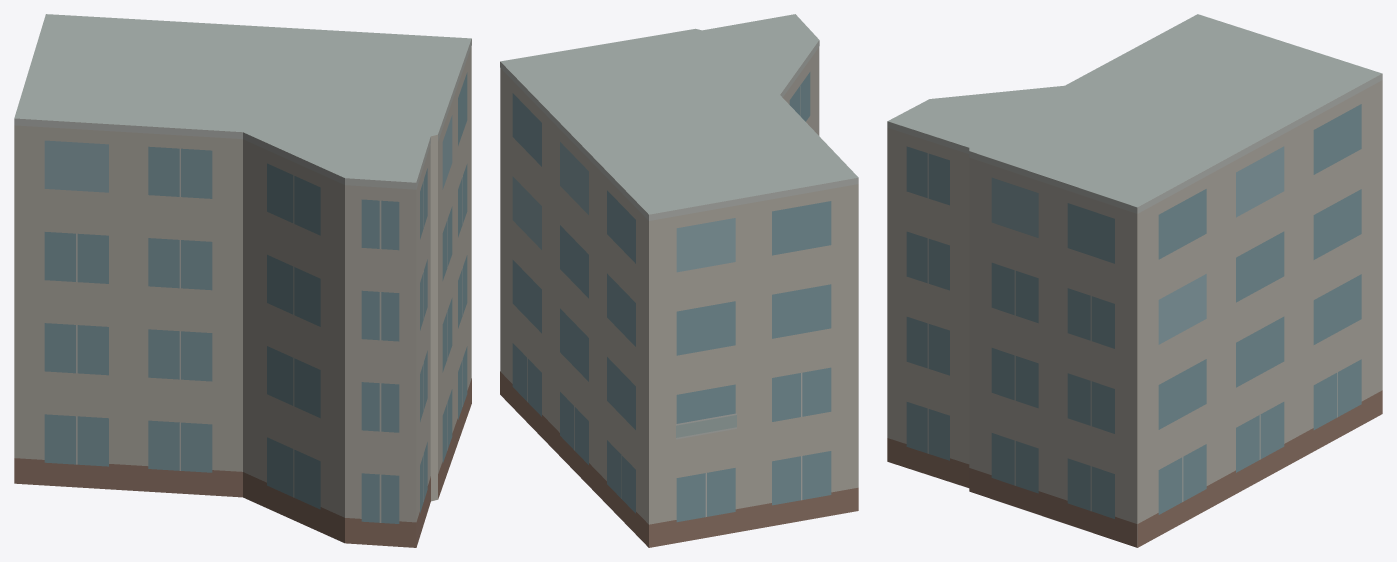
The model's file is survey-upis-32487131.glb.
3 views of the same model, side by side, from view 1: azimuth 30°, elevation 25°; view 2: azimuth 150°, elevation 25°; view 3: azimuth 270°, elevation 25° (orthographic). The views are drawn at different scales.
Parts seen in each view (by area): view 1: survey-upis-32487131.tmp; view 2: survey-upis-32487131.tmp; view 3: survey-upis-32487131.tmp.
Boxes of the visible parts, <box> form: survey-upis-32487131.tmp: <box>14,14,471,547</box>; survey-upis-32487131.tmp: <box>500,14,858,547</box>; survey-upis-32487131.tmp: <box>887,14,1382,547</box>.
Size of the model in its own units: 15.61 by 12.8 by 16.88.
